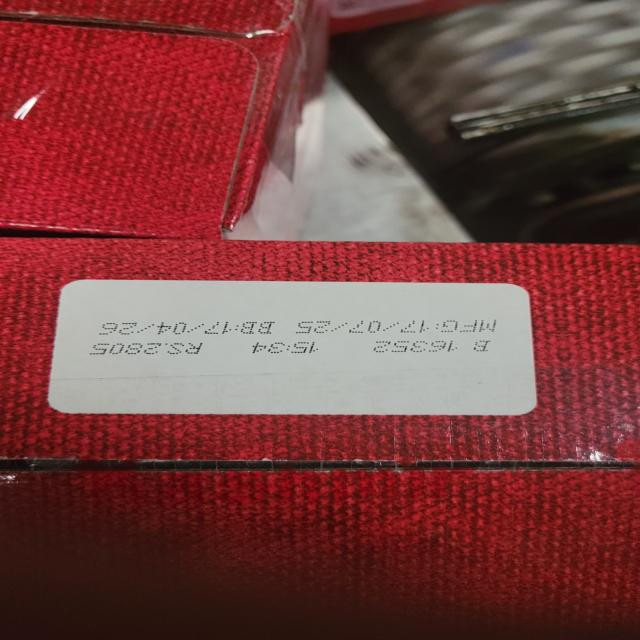BB: (95, 320, 276, 336)
Batch: (375, 338, 491, 354)
MFG: (295, 320, 502, 334)
RS: (88, 340, 210, 357)
TimeStamp: (250, 340, 322, 354)
